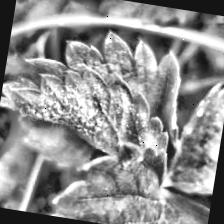Powdery Mildew Leaf: (0, 14, 194, 165), (162, 73, 224, 209)
